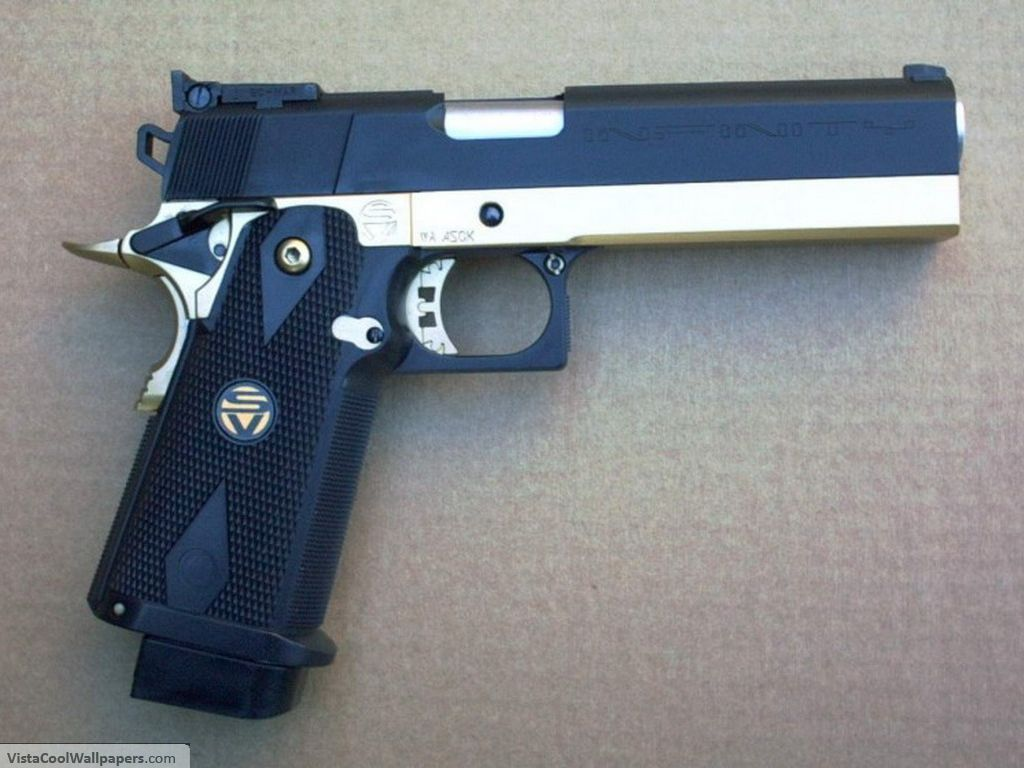gun: (40, 56, 988, 728)
